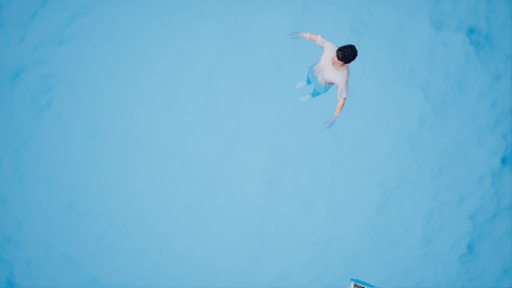person: (291, 27, 356, 135)
